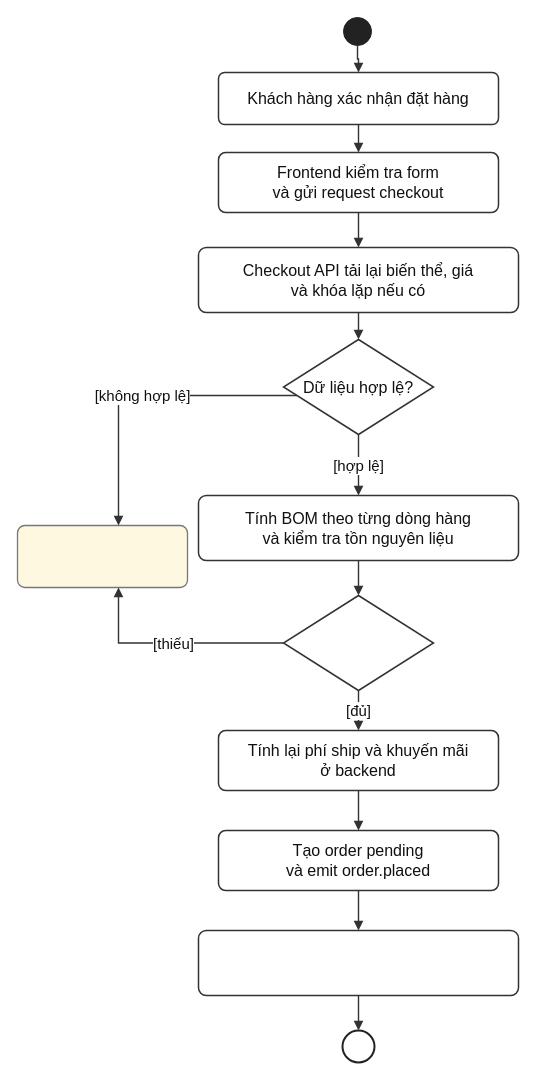
This 537x1081 diagram has some shape labels left out. The box of each missing label's shape, as (x1, y1, x2, y2) in pixels:
Frontend nhận order id, summary xóa phần giỏ đã checkout: (197, 929, 519, 996)
Hiển thị lỗi, không tạo đơn: (16, 524, 188, 588)
Đủ hàng?: (282, 594, 434, 691)
